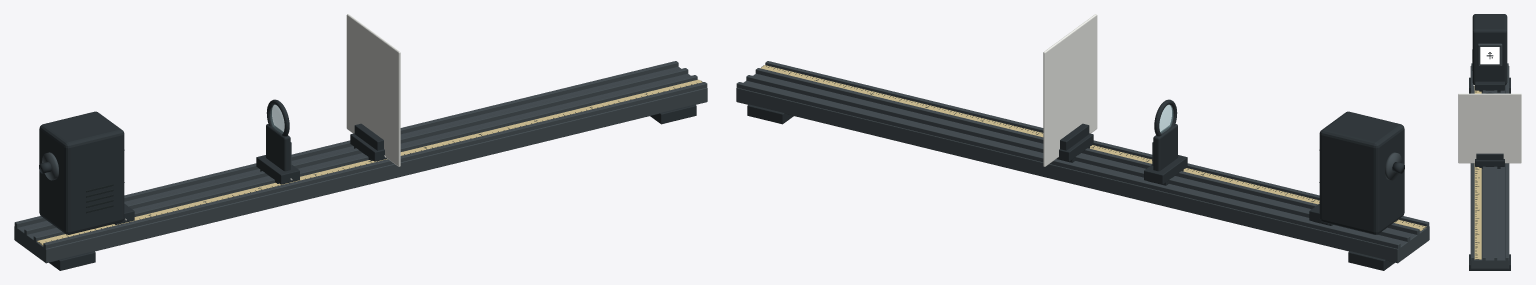
File: lens-bench-product.glb
The picture shows the model from 3 angles, left to right: view 1: azimuth 30°, elevation 25°; view 2: azimuth 150°, elevation 25°; view 3: azimuth 270°, elevation 25°; orthographic projection. The views are drawn at different scales.
Parts seen in each view (by area): view 1: Extruded rail, Lamp housing, Viewing screen, Channel lip, Channel lip.002, Channel lip.003, Channel lip.001, Ruler strip, Lens pedestal, Snap base.001, Rubber foot.001, Rubber foot (+2 smaller); view 2: Extruded rail, Lamp housing, Viewing screen, Channel lip.003, Channel lip.002, Channel lip.001, Channel lip, Ruler strip, Lens pedestal, Snap base.001, Rubber foot.001, Rubber foot (+2 smaller); view 3: Viewing screen, Extruded rail, Lamp housing, Ruler strip, Channel lip.003, Channel lip, Channel lip.001, Channel lip.002, Target luminous face, Target frame, Snap base, Snap base.002 (+3 smaller).
Boxes of the visible parts, box(x1,y1,x2,y2) form: Extruded rail: box(14, 66, 707, 263); Lamp housing: box(39, 111, 124, 234); Viewing screen: box(346, 14, 400, 166); Channel lip: box(43, 82, 707, 249); Channel lip.002: box(24, 68, 688, 235); Channel lip.003: box(14, 61, 678, 228); Channel lip.001: box(33, 75, 697, 242); Ruler strip: box(37, 79, 702, 245); Lens pedestal: box(266, 124, 290, 171); Snap base.001: box(256, 155, 299, 184); Rubber foot.001: box(650, 104, 696, 124); Rubber foot: box(49, 251, 95, 270); Extruded rail: box(736, 73, 1429, 263); Lamp housing: box(1319, 111, 1404, 234); Viewing screen: box(1043, 14, 1097, 166); Channel lip.003: box(736, 82, 1400, 249); Channel lip.002: box(746, 75, 1410, 242); Channel lip.001: box(755, 68, 1419, 235); Channel lip: box(765, 61, 1429, 228); Ruler strip: box(761, 65, 1426, 231); Lens pedestal: box(1153, 124, 1177, 171); Snap base.001: box(1144, 155, 1187, 184); Rubber foot.001: box(747, 104, 793, 124); Rubber foot: box(1348, 251, 1394, 270); Viewing screen: box(1458, 93, 1521, 163); Extruded rail: box(1470, 66, 1509, 268); Lamp housing: box(1472, 14, 1507, 85); Ruler strip: box(1474, 86, 1481, 259); Channel lip.003: box(1505, 63, 1508, 260); Channel lip: box(1471, 63, 1474, 260); Channel lip.001: box(1482, 90, 1485, 260); Channel lip.002: box(1494, 90, 1497, 260); Target luminous face: box(1480, 47, 1499, 64); Target frame: box(1477, 43, 1502, 66); Snap base: box(1475, 81, 1504, 90); Snap base.002: box(1475, 159, 1504, 166).
Size of the model in its own units: 1.2 by 0.251 by 0.165.
